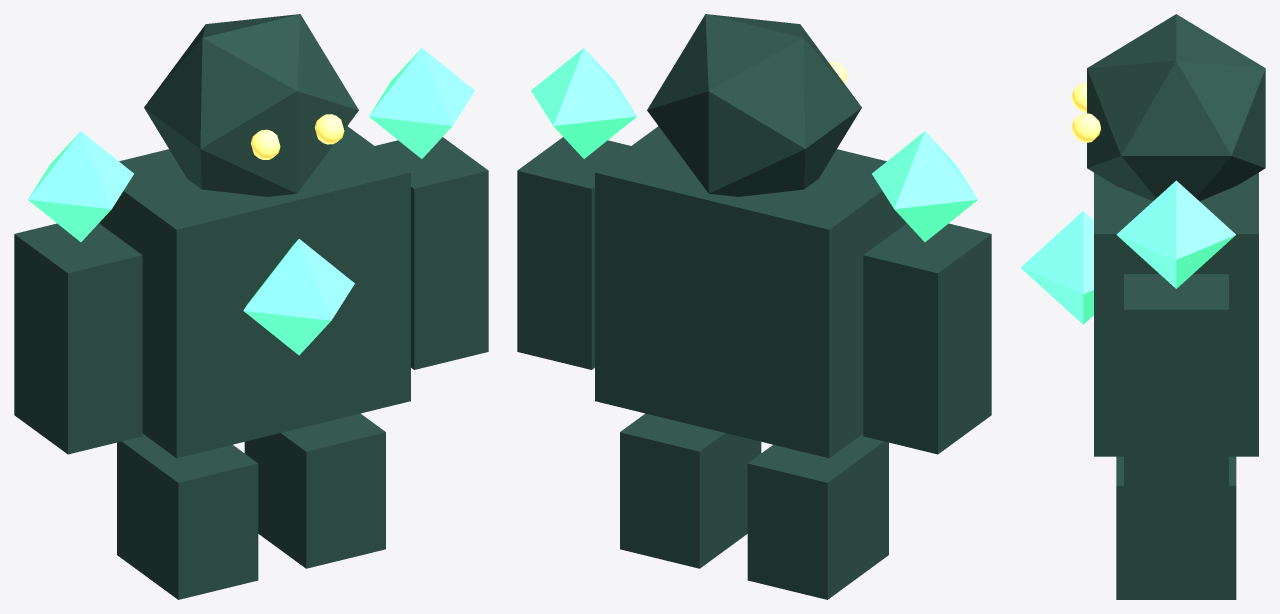
Rendered from crystal-golem.glb.
3 renders of one model, left to right at view 1: azimuth 30°, elevation 25°; view 2: azimuth 150°, elevation 25°; view 3: azimuth 270°, elevation 25°, orthographic. The views are drawn at different scales.
Visible parts, largest first — view 1: CrystalGolemTorso, CrystalGolemArm-1, CrystalGolemHead, CrystalGolemLeg-1, CrystalGolemLeg1, CrystalGolemArm1, CrystalGolemCore, CrystalGolemCrystal-1, CrystalGolemCrystal1, CrystalGolemEye1, CrystalGolemEye-1; view 2: CrystalGolemTorso, CrystalGolemHead, CrystalGolemArm-1, CrystalGolemLeg-1, CrystalGolemLeg1, CrystalGolemArm1, CrystalGolemCrystal-1, CrystalGolemCrystal1; view 3: CrystalGolemHead, CrystalGolemArm1, CrystalGolemTorso, CrystalGolemLeg1, CrystalGolemCrystal1, CrystalGolemCore, CrystalGolemEye1, CrystalGolemEye-1.
Boxes of the visible parts, bbox=[...] form: CrystalGolemTorso: bbox=[99, 126, 410, 458]; CrystalGolemArm-1: bbox=[14, 223, 142, 454]; CrystalGolemHead: bbox=[144, 14, 358, 196]; CrystalGolemLeg-1: bbox=[117, 434, 258, 599]; CrystalGolemLeg1: bbox=[244, 413, 385, 568]; CrystalGolemArm1: bbox=[375, 137, 488, 369]; CrystalGolemCore: bbox=[243, 239, 354, 355]; CrystalGolemCrystal-1: bbox=[28, 131, 133, 241]; CrystalGolemCrystal1: bbox=[369, 48, 474, 158]; CrystalGolemEye1: bbox=[315, 114, 344, 144]; CrystalGolemEye-1: bbox=[251, 129, 280, 159]; CrystalGolemTorso: bbox=[595, 126, 906, 458]; CrystalGolemHead: bbox=[647, 14, 861, 196]; CrystalGolemArm-1: bbox=[863, 223, 991, 454]; CrystalGolemLeg-1: bbox=[747, 434, 888, 599]; CrystalGolemLeg1: bbox=[620, 413, 761, 568]; CrystalGolemArm1: bbox=[517, 137, 630, 369]; CrystalGolemCrystal-1: bbox=[872, 131, 977, 241]; CrystalGolemCrystal1: bbox=[531, 48, 636, 158]; CrystalGolemHead: bbox=[1087, 14, 1265, 201]; CrystalGolemArm1: bbox=[1124, 274, 1228, 486]; CrystalGolemTorso: bbox=[1094, 172, 1258, 456]; CrystalGolemLeg1: bbox=[1116, 456, 1236, 599]; CrystalGolemCrystal1: bbox=[1116, 180, 1235, 288]; CrystalGolemCore: bbox=[1020, 211, 1093, 324]; CrystalGolemEye1: bbox=[1071, 113, 1100, 142]; CrystalGolemEye-1: bbox=[1071, 82, 1086, 112].
Size of the model in its own units: 1.68 by 1.89 by 0.8177.
